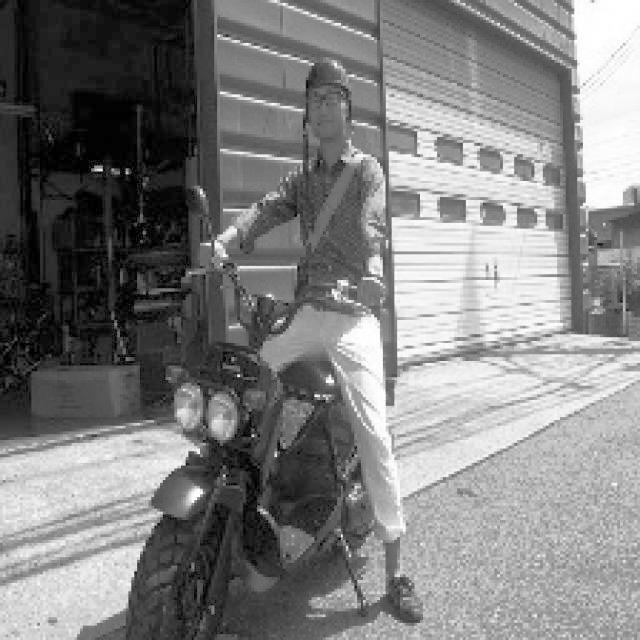Bike: (89, 329, 363, 639)
